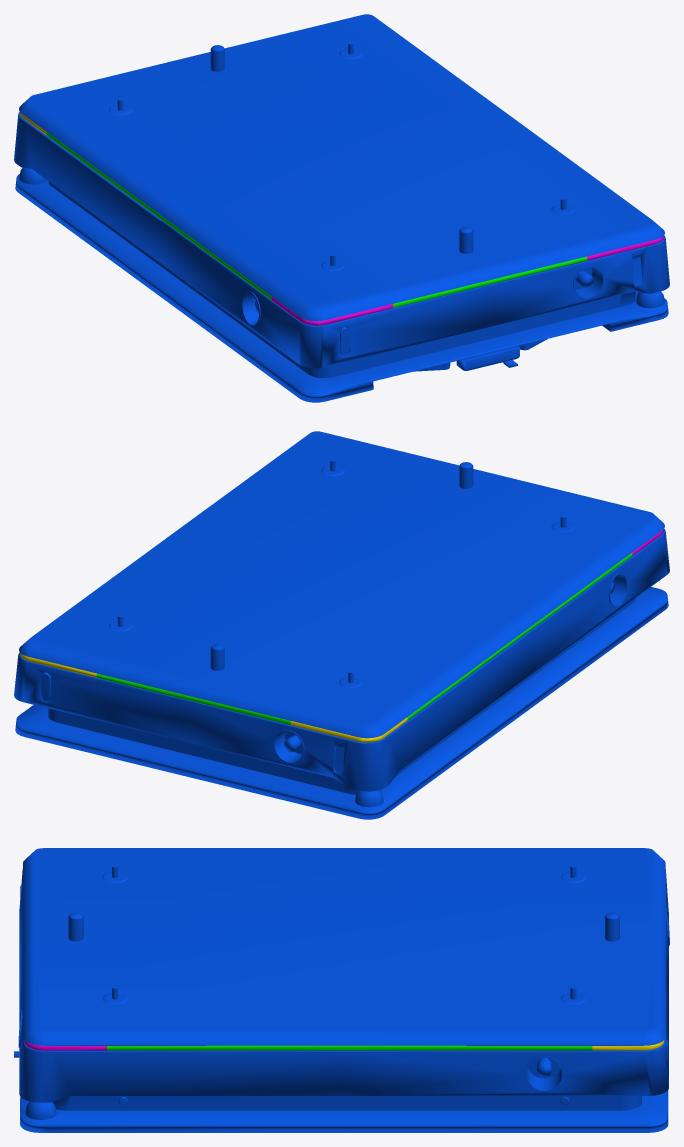
File: Otto1500.fbx
3 views of the same model, one above another, from view 1: azimuth 30°, elevation 25°; view 2: azimuth 150°, elevation 25°; view 3: azimuth 270°, elevation 25° (orthographic). The views are drawn at different scales.
Visible parts, largest first — view 1: Otto_Body; view 2: Otto_Body; view 3: Otto_Body.
Part boxes in pixels (left/top/right/bottom): Otto_Body: left=14, top=14, right=669, bottom=402; Otto_Body: left=14, top=431, right=669, bottom=819; Otto_Body: left=14, top=848, right=669, bottom=1132.
Bounding box in the file's own units: 1.29 × 0.4155 × 1.83.
